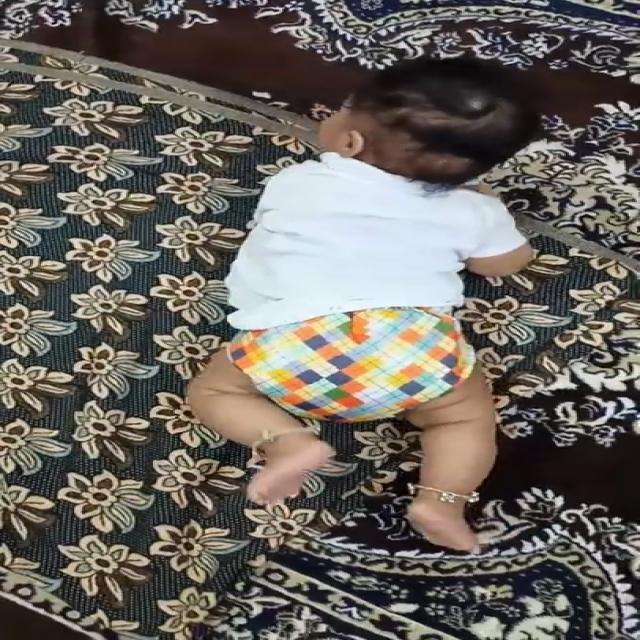baby: (191, 53, 564, 557)
